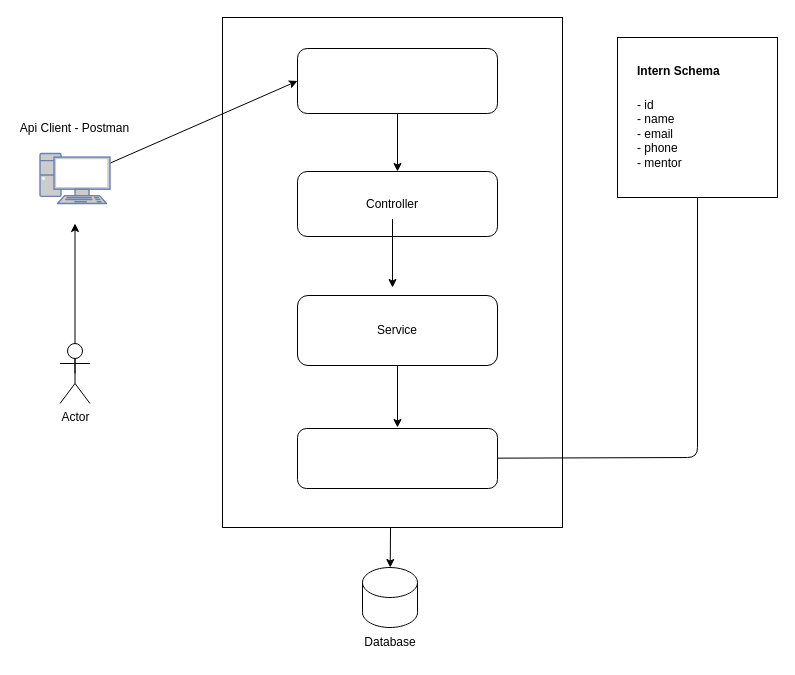
Image size: 795x675. Some labels were removed from this diagram. The box of each missing label's shape, as (x1, y1, x2, y2) in pixels:
Routes: (296, 48, 498, 114)
Schema: (296, 428, 498, 488)
